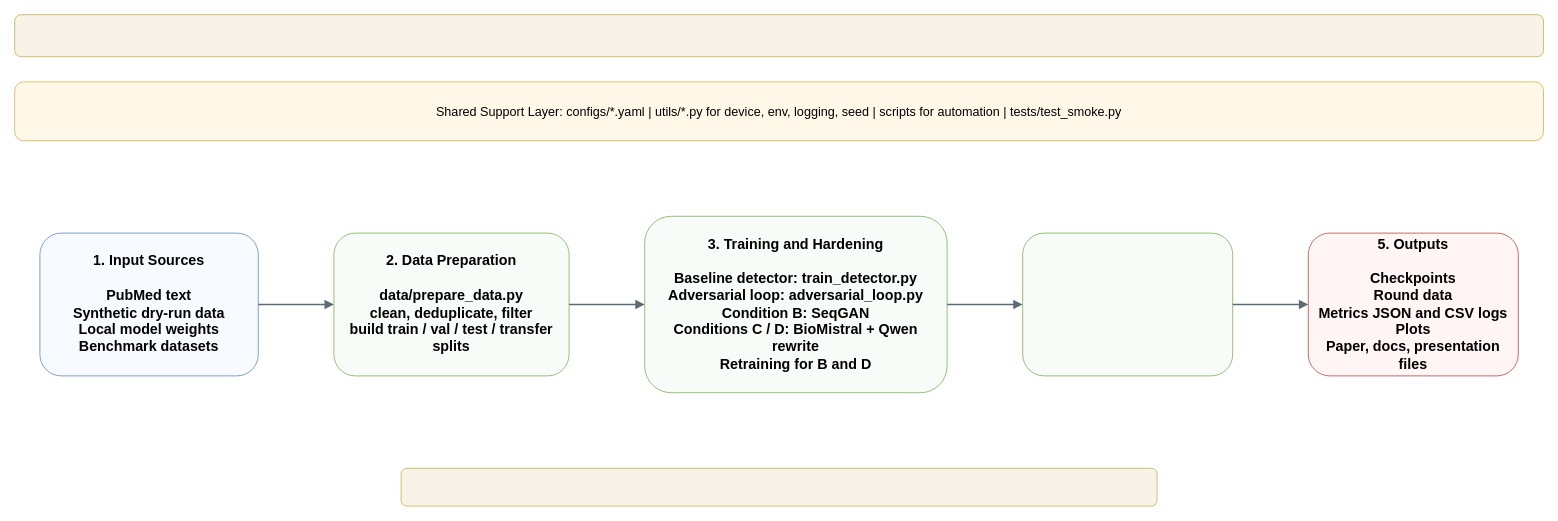
Some shapes in this 1558 by 521 pixel diagram are drawn without their labels. Each missing label, with the centre of its shape:
4. Evaluation eval_pipeline.py metrics.py raid_benchmark.py visualization.py: the point at 1127,304
BioShield Architecture: the point at 779,35
Label convention used across the repo: 1 = real, 0 = fake.: the point at 778,486
